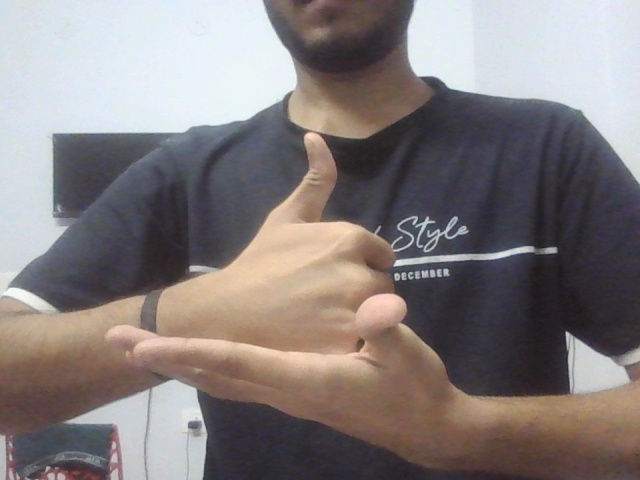Help: (90, 121, 469, 476)
